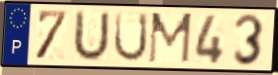3: (232, 13, 267, 68)
4: (193, 13, 226, 66)
7: (36, 9, 69, 62)
M: (146, 11, 194, 65)
U: (70, 9, 111, 64), (111, 10, 150, 63)
